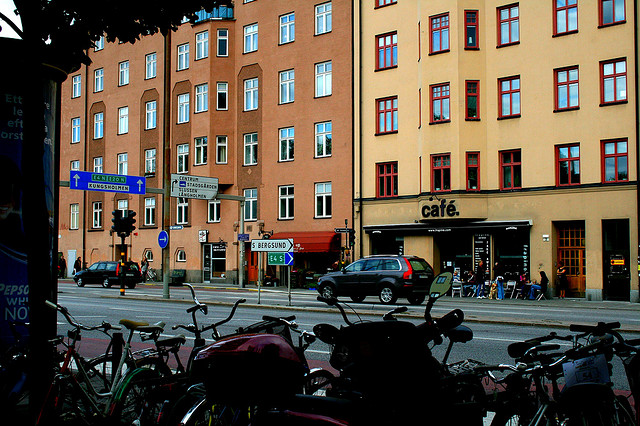Car: (314, 256, 438, 307)
